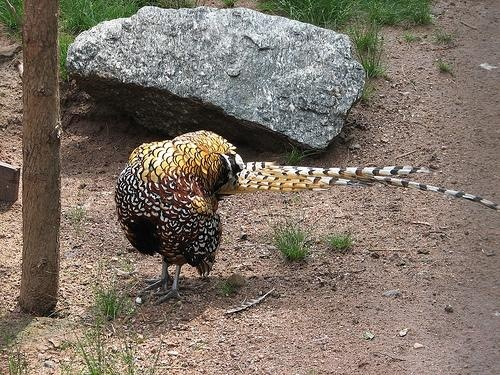bird: (114, 129, 499, 306)
